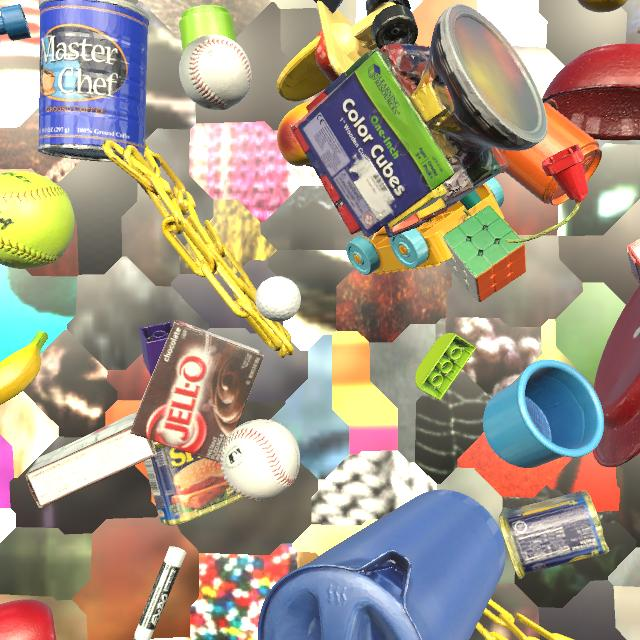ycb_002_master_chef_can: (38, 0, 149, 162)
ycb_008_pudding_box: (130, 319, 264, 463), (25, 413, 157, 508)
ycb_009_gelatin_box: (626, 238, 640, 283)
ycb_010_potted_meat_can: (499, 490, 609, 579), (144, 441, 243, 526)
ycb_011_banana: (0, 331, 48, 405)
ycb_013_apple: (0, 599, 57, 640)
ycb_015_peach: (277, 102, 313, 167), (577, 0, 628, 12)
